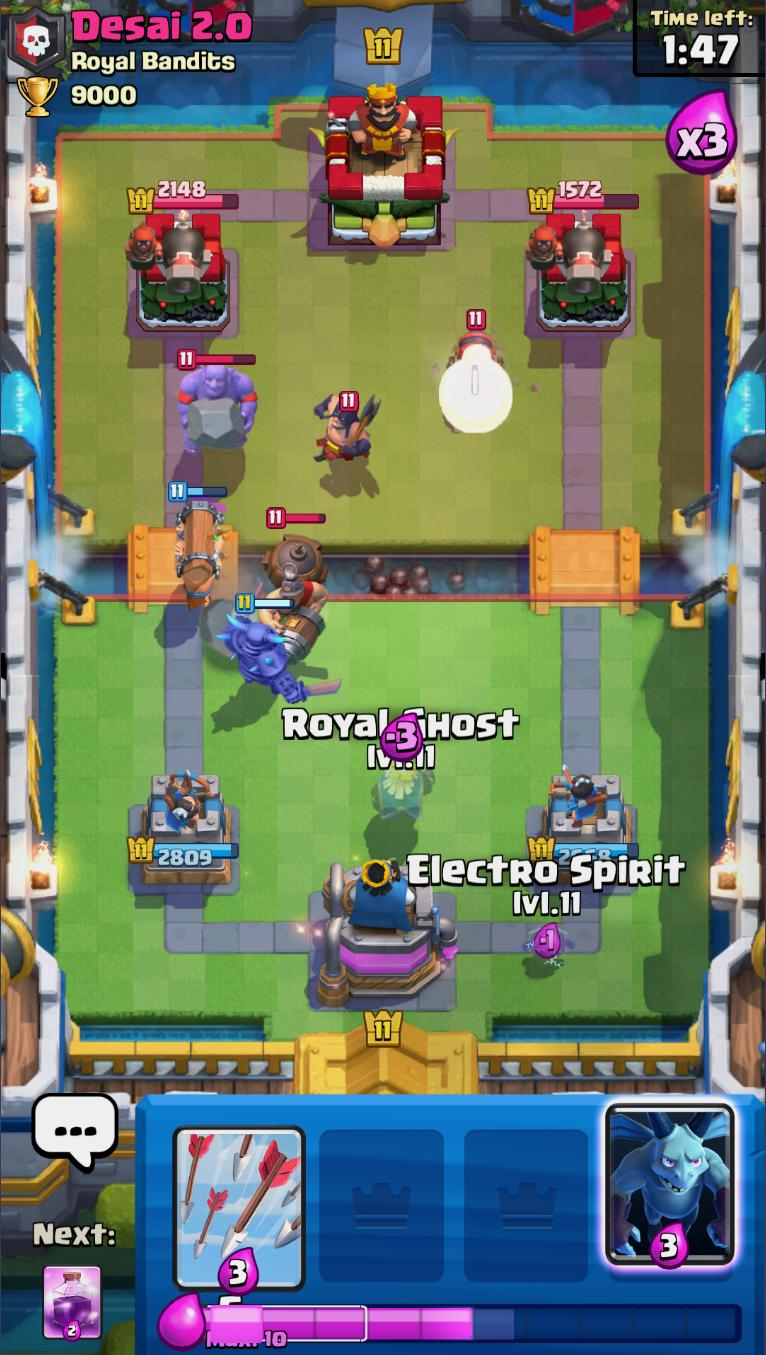ArrowDeck: (168, 1094, 311, 1295)
Bowler: (173, 350, 261, 454)
CannonCart: (447, 309, 503, 371)
Cannoneer: (526, 212, 607, 298), (124, 214, 207, 297)
Elixir: (200, 1296, 745, 1350)
Empty: (310, 1094, 456, 1295), (456, 1095, 601, 1295)
EnemyTower: (524, 209, 633, 333), (125, 207, 231, 332)
Executioner: (313, 391, 383, 465)
KingTower: (310, 81, 461, 249)
MightyMiner: (258, 506, 331, 664)
MinionsDeck: (600, 1095, 740, 1295)
MyBattleRam: (166, 479, 228, 614)
MyKingTower: (314, 855, 460, 1007)
MyPekka: (214, 593, 343, 706)
MyPrincessTower: (527, 770, 641, 886), (128, 773, 242, 888)
MyPrincessTowerHP: (127, 836, 240, 867), (527, 837, 640, 866)
RageNext: (40, 1264, 105, 1341)
TowerPrincessHP: (127, 178, 240, 212), (529, 179, 641, 211)
